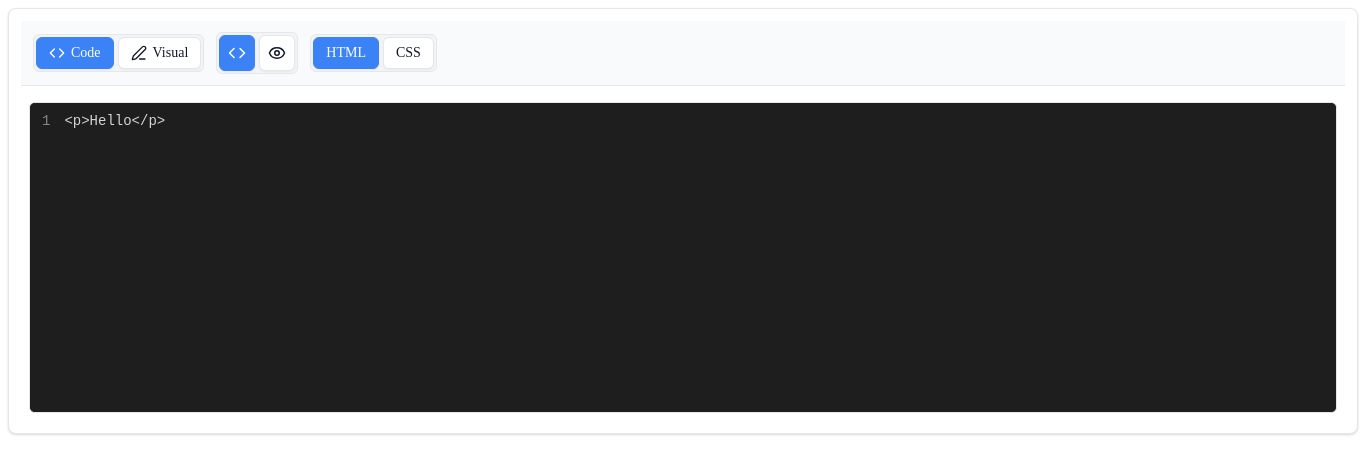
ContentEditor composition › keeps the toggle-driven view toggles hidden in WYSIWYG mode
Step 1. Click the button with aria-label "visual editor" → (159, 53), box [118,37,201,69]
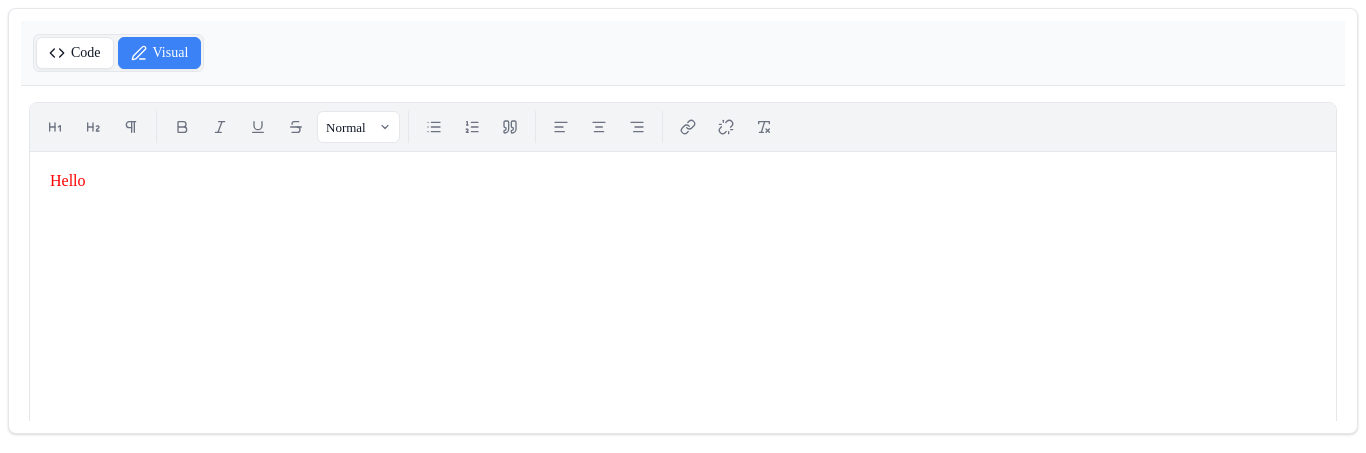
# Switching back restores them.
Step 2. Click the button with aria-label "code view" → (75, 53), box [36,37,114,69]
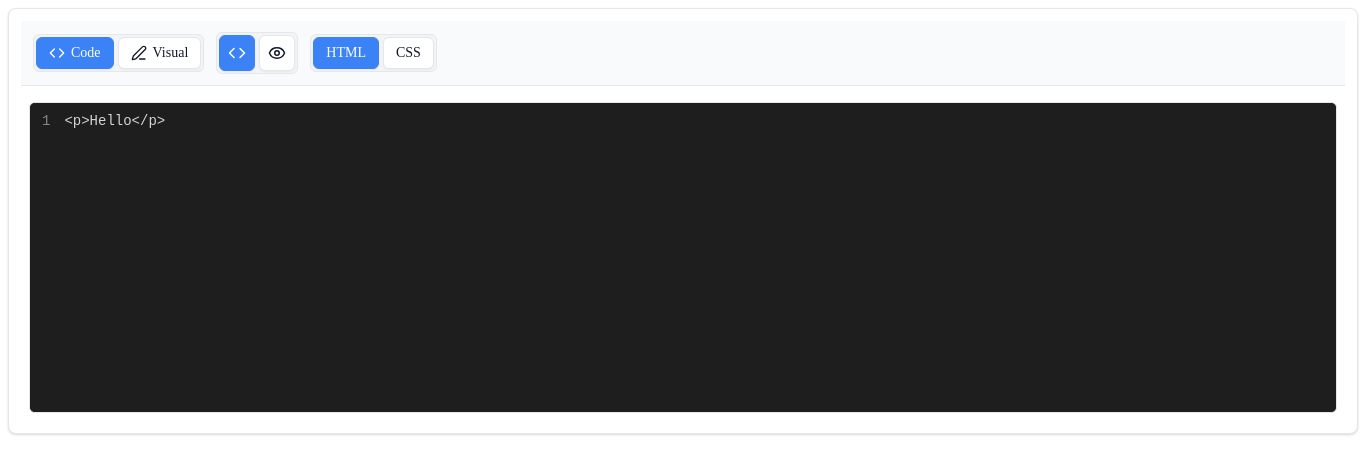
Expected: the button named "toggle preview mode" is shown, [259,35,295,71]
